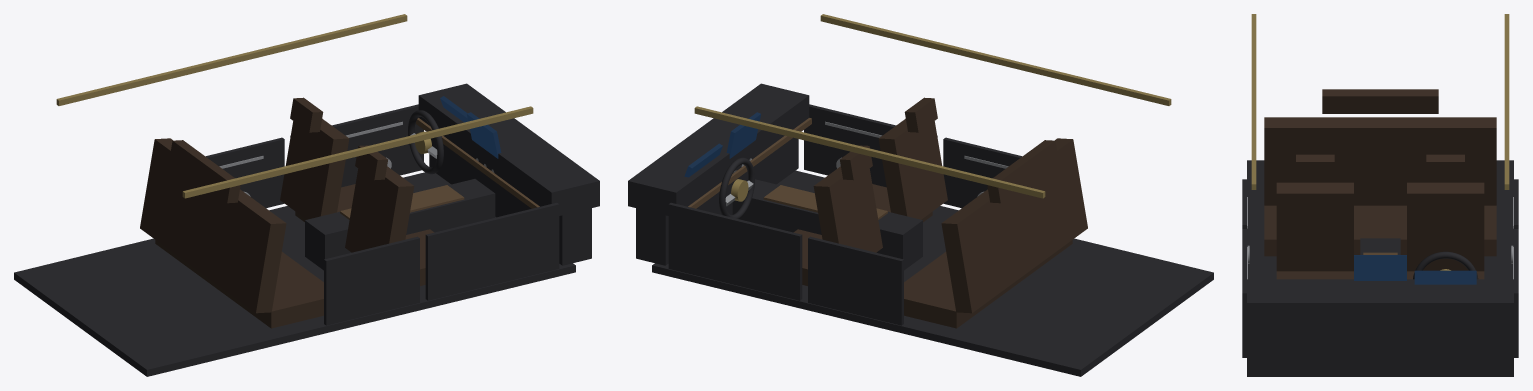
The model's file is demo-interior.glb.
The picture shows the model from 3 angles, left to right: view 1: azimuth 30°, elevation 25°; view 2: azimuth 150°, elevation 25°; view 3: azimuth 270°, elevation 25°; orthographic projection.
Parts seen in each view (by area): view 1: interior_floor, seat_R_back, door_panel_FR_card, dash_upper, door_panel_RR_card, console_body, seat_FL_back, seat_FR_back, dash_lower, seat_R_base, door_panel_FL_card, curtain_airbag_L (+9 smaller); view 2: interior_floor, seat_R_back, door_panel_FL_card, dash_upper, door_panel_RL_card, seat_FR_back, seat_FL_back, console_body, door_panel_FR_card, dash_lower, seat_R_base, curtain_airbag_L (+9 smaller); view 3: seat_R_back, dash_upper, dash_lower, seat_FR_back, seat_FL_back, interior_floor, seat_R_base, seat_R_head, infotainment_screen, curtain_airbag_L, curtain_airbag_R, seat_FL_head (+9 smaller).
Boxes of the visible parts, box(x1,y1,x2,y2) form: interior_floor: box(14, 172, 575, 376); seat_R_back: box(140, 138, 286, 313); door_panel_FR_card: box(425, 202, 559, 300); dash_upper: box(418, 83, 599, 215); door_panel_RR_card: box(324, 236, 419, 325); console_body: box(305, 179, 495, 270); seat_FL_back: box(280, 118, 349, 219); seat_FR_back: box(345, 166, 414, 252); dash_lower: box(429, 137, 591, 265); seat_R_base: box(155, 240, 323, 328); door_panel_FL_card: box(290, 104, 423, 187); curtain_airbag_L: box(56, 14, 407, 105); interior_floor: box(652, 170, 1213, 376); seat_R_back: box(941, 138, 1087, 313); door_panel_FL_card: box(668, 202, 802, 300); dash_upper: box(628, 83, 809, 215); door_panel_RL_card: box(808, 236, 903, 325); seat_FR_back: box(878, 118, 947, 219); seat_FL_back: box(813, 166, 882, 252); console_body: box(732, 179, 922, 270); door_panel_FR_card: box(804, 104, 937, 187); dash_lower: box(636, 137, 798, 265); seat_R_base: box(904, 240, 1072, 328); curtain_airbag_L: box(694, 106, 1045, 198); seat_R_back: box(1264, 117, 1496, 205); dash_upper: box(1247, 279, 1513, 328); dash_lower: box(1247, 328, 1513, 374); seat_FR_back: box(1276, 182, 1353, 271); seat_FL_back: box(1407, 182, 1484, 271); interior_floor: box(1247, 160, 1513, 376); seat_R_base: box(1264, 205, 1496, 256); seat_R_head: box(1322, 89, 1438, 113); infotainment_screen: box(1354, 255, 1406, 280); curtain_airbag_L: box(1504, 14, 1509, 189); curtain_airbag_R: box(1251, 14, 1256, 189); seat_FL_head: box(1426, 154, 1464, 179).
Size of the model in its own units: 3.38 by 1.23 by 1.78.
